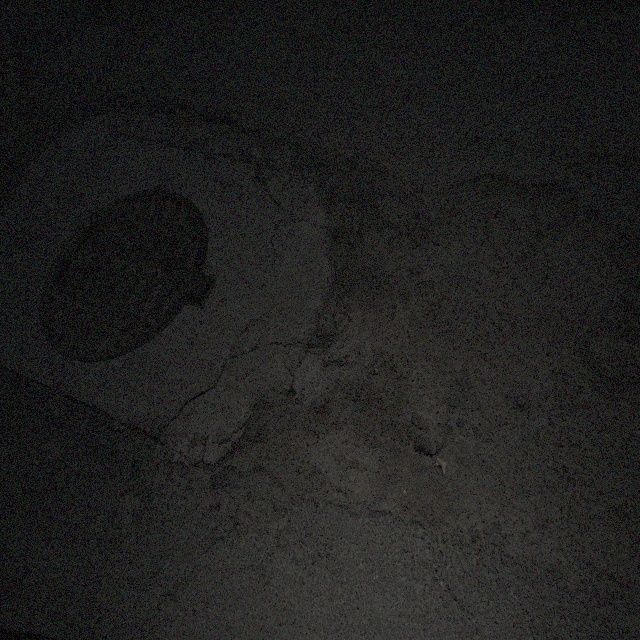pothole: (221, 192, 619, 491), (4, 42, 46, 79)
